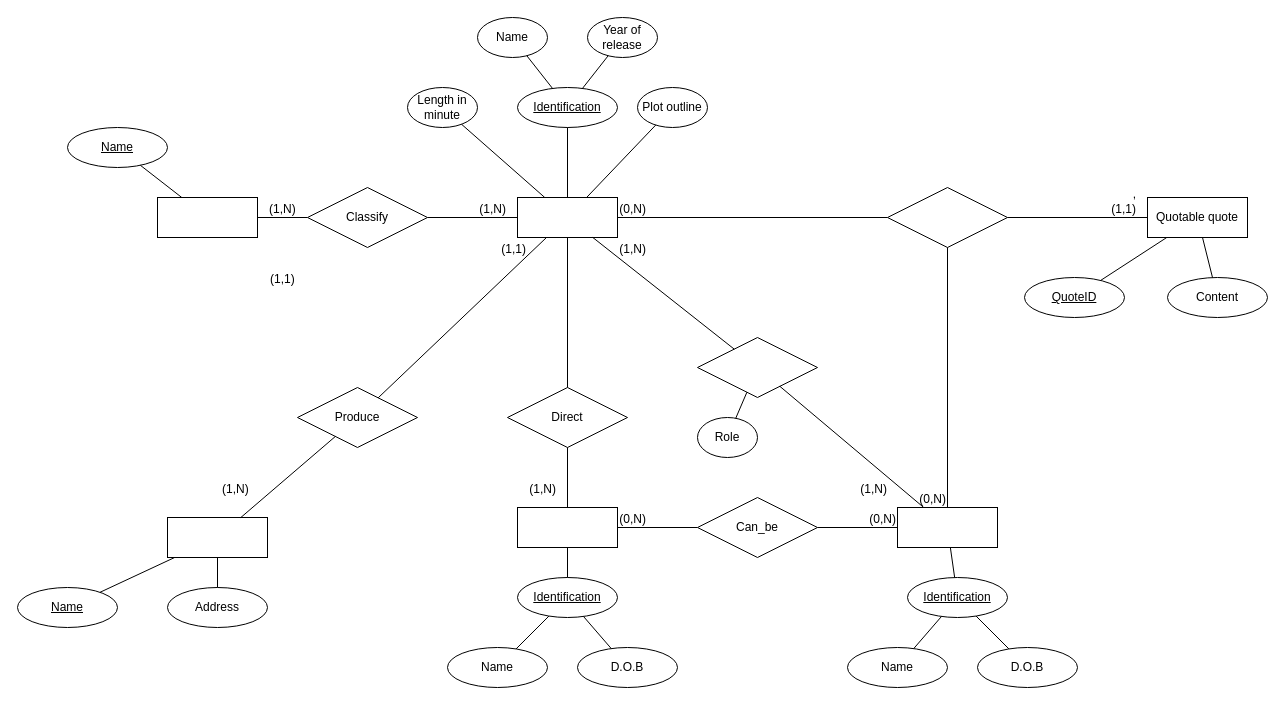
This 1285x705 diagram has some shape labels left out. Here are the shapes that lost their labels. From the top down, the box of each, then its label:
(156, 196, 258, 238): Genre
(516, 196, 618, 238): Movie
(886, 186, 1008, 248): Have
(696, 336, 818, 398): Appear_in
(166, 516, 268, 558): Production company
(516, 506, 618, 548): Director
(896, 506, 998, 548): Actor
